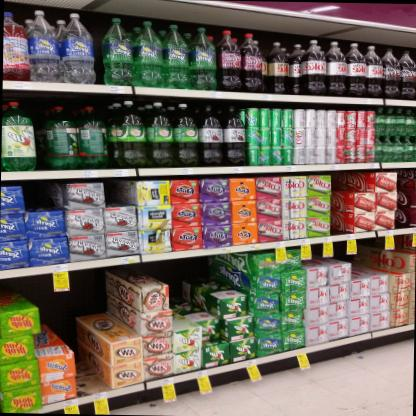empty_space: (78, 358, 111, 398)
